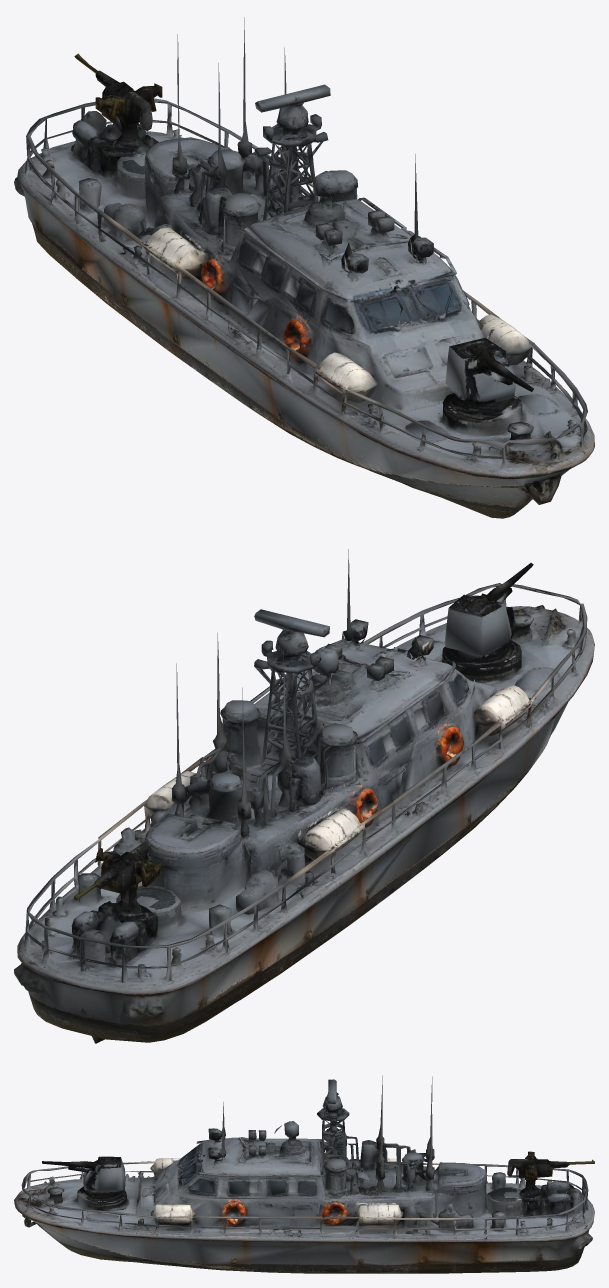
The model's file is boat_warship.glb.
The picture shows the model from 3 angles, top to bottom: view 1: azimuth 30°, elevation 25°; view 2: azimuth 150°, elevation 25°; view 3: azimuth 270°, elevation 25°; orthographic projection. The views are drawn at different scales.
Visible parts, largest first — view 1: geometry_0; view 2: geometry_0; view 3: geometry_0.
Part boxes in pixels (bbox=[...]): geometry_0: bbox=[14, 17, 594, 518]; geometry_0: bbox=[14, 549, 594, 1043]; geometry_0: bbox=[14, 1075, 594, 1273].
Size of the model in its own units: 0.291 by 0.4063 by 1.18.
Materials: 1 (1 with a texture image).
